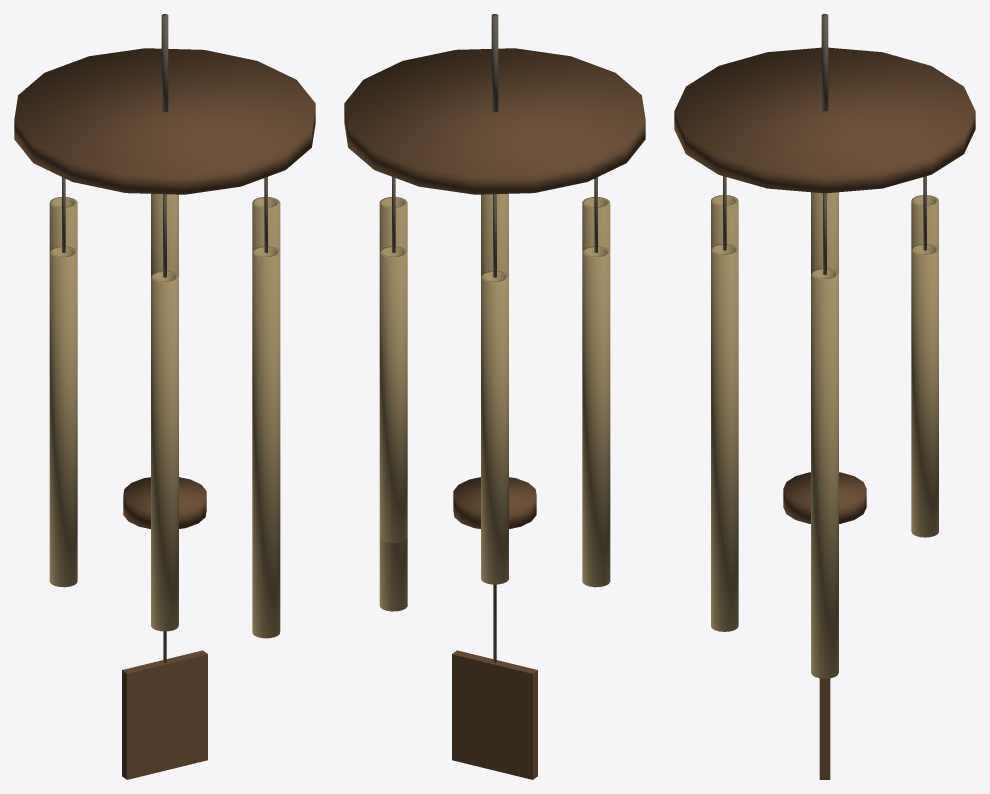
File: coastal-chime.glb
3 renders of one model, left to right at view 1: azimuth 30°, elevation 25°; view 2: azimuth 150°, elevation 25°; view 3: azimuth 270°, elevation 25°, orthographic.
Parts seen in each view (by area): view 1: suspension, moving_striker, brass_1, brass_2, brass_3, brass_5, brass_0, brass_4; view 2: suspension, moving_striker, brass_3, brass_4, brass_5, brass_0, brass_1, brass_2; view 3: suspension, brass_0, brass_1, brass_5, moving_striker, brass_3, brass_2, brass_4.
Part boxes in pixels (<box>): suspension: <box>14,14,315,277</box>; moving_striker: <box>122,477,207,779</box>; brass_1: <box>252,246,280,638</box>; brass_2: <box>151,271,178,631</box>; brass_3: <box>49,246,77,587</box>; brass_5: <box>151,193,178,276</box>; brass_0: <box>252,197,280,251</box>; brass_4: <box>49,197,77,252</box>; suspension: <box>344,14,645,277</box>; moving_striker: <box>452,477,537,779</box>; brass_3: <box>582,246,610,587</box>; brass_4: <box>481,271,508,584</box>; brass_5: <box>379,246,407,542</box>; brass_0: <box>379,197,407,611</box>; brass_1: <box>481,193,508,276</box>; brass_2: <box>582,197,610,252</box>; suspension: <box>674,14,975,274</box>; brass_0: <box>811,268,838,678</box>; brass_1: <box>711,244,738,631</box>; brass_5: <box>911,244,938,537</box>; moving_striker: <box>783,472,866,779</box>; brass_3: <box>811,192,838,273</box>; brass_2: <box>711,195,738,248</box>; brass_4: <box>911,195,938,248</box>.
Bounding box in the file's own units: 0.26 × 0.71 × 0.26.
